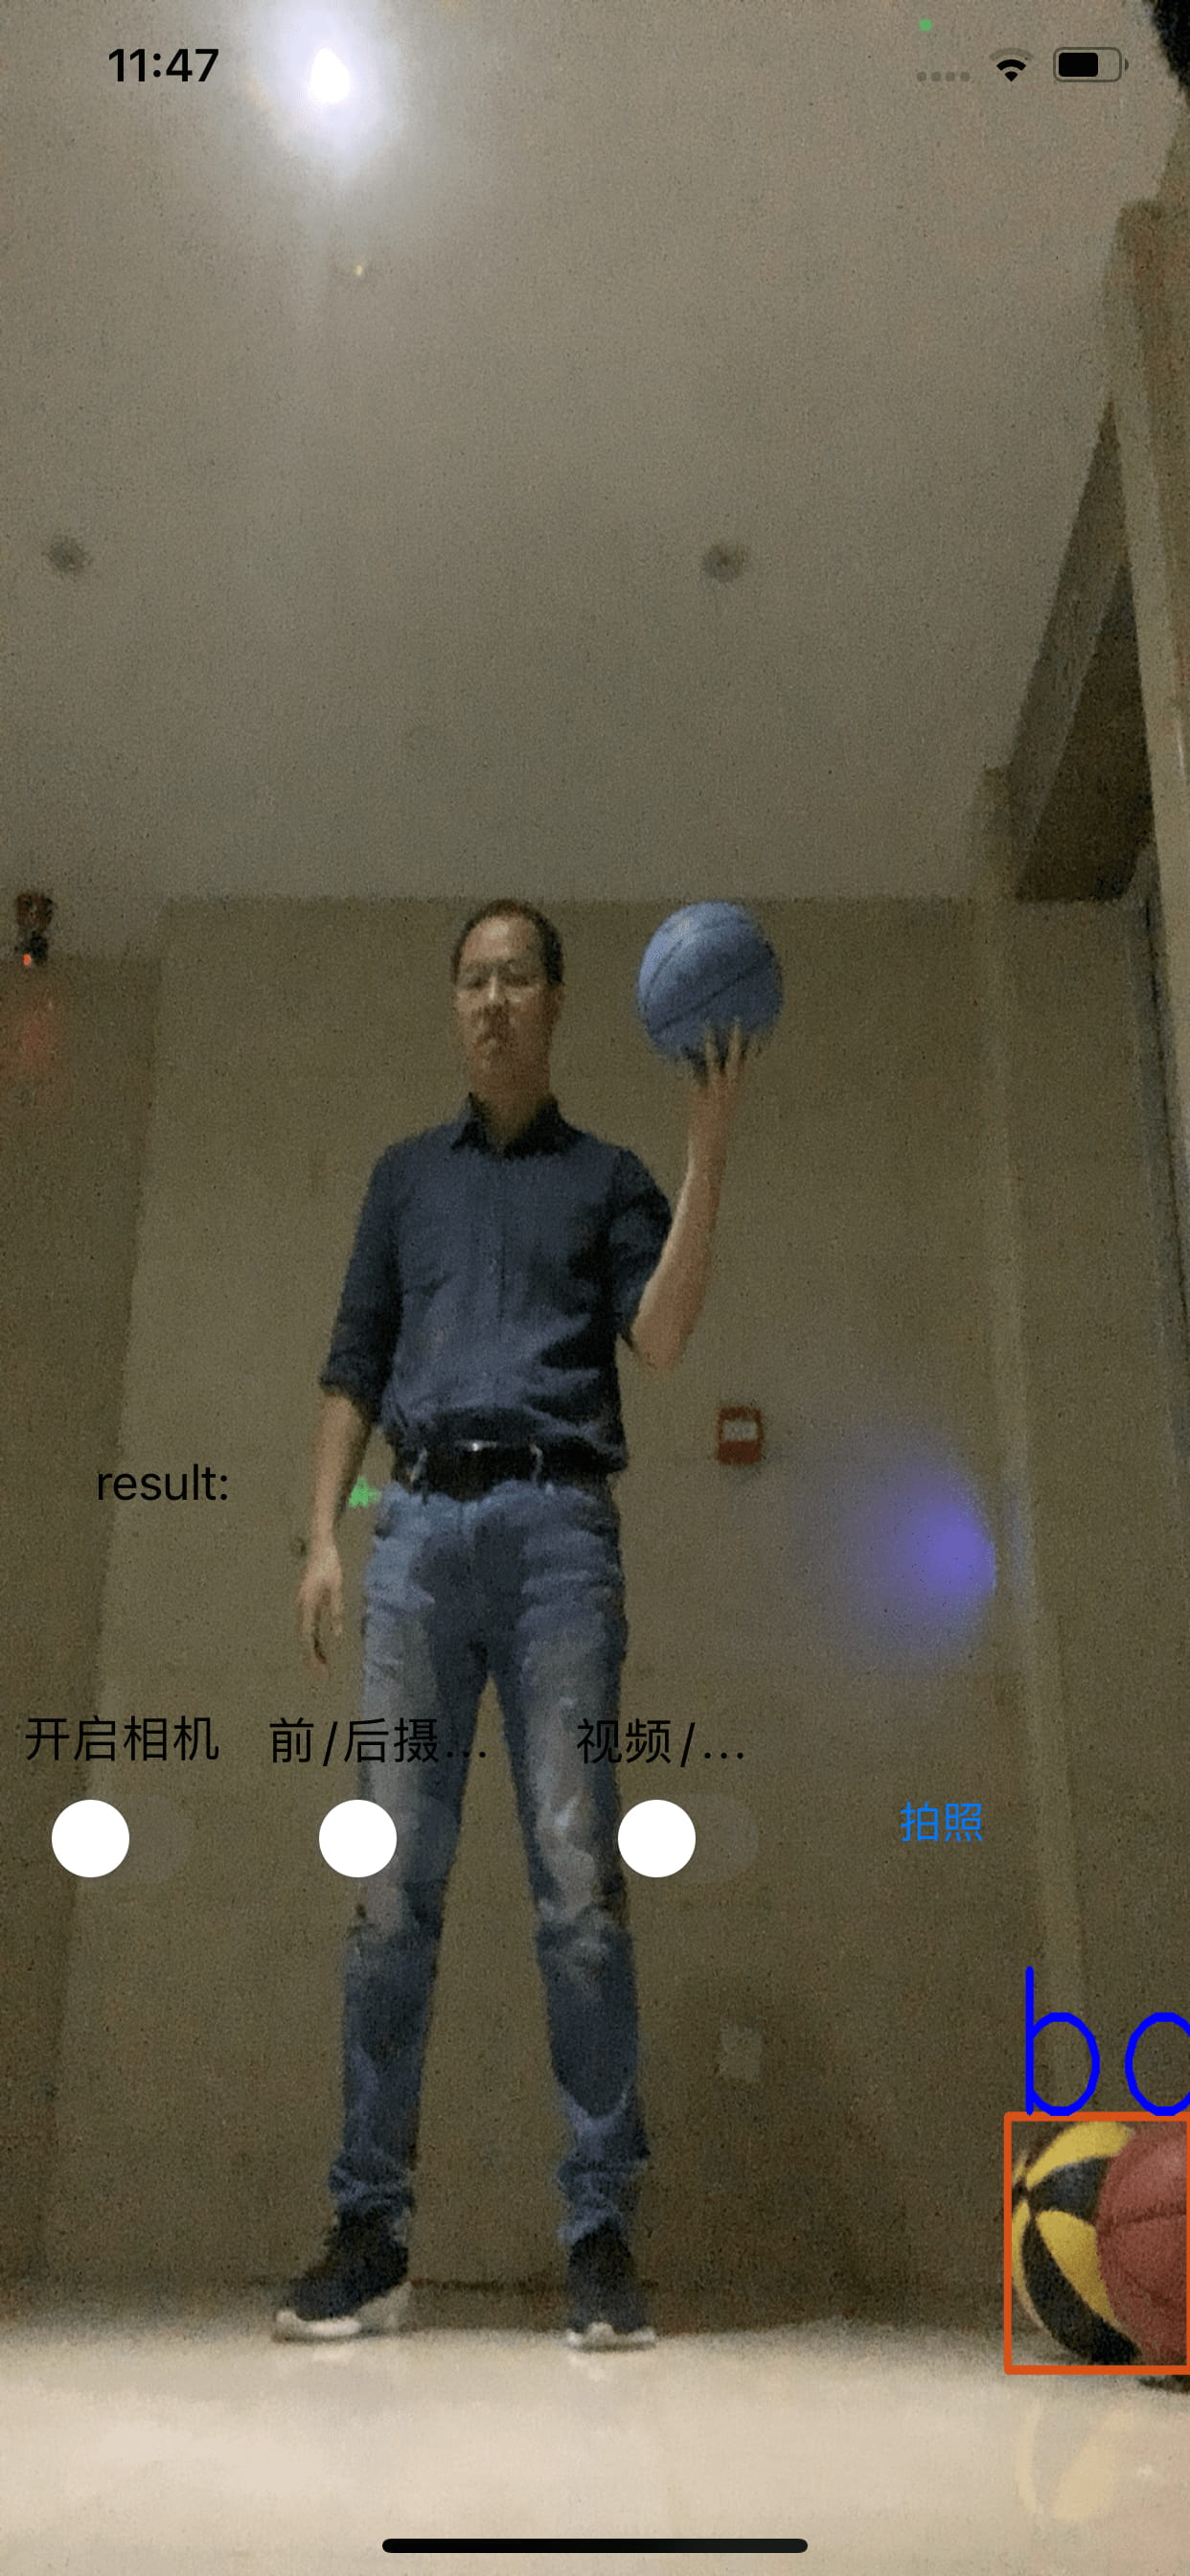ball: (634, 895, 789, 1066), (1090, 2119, 1183, 2390), (1019, 2119, 1123, 2362)
